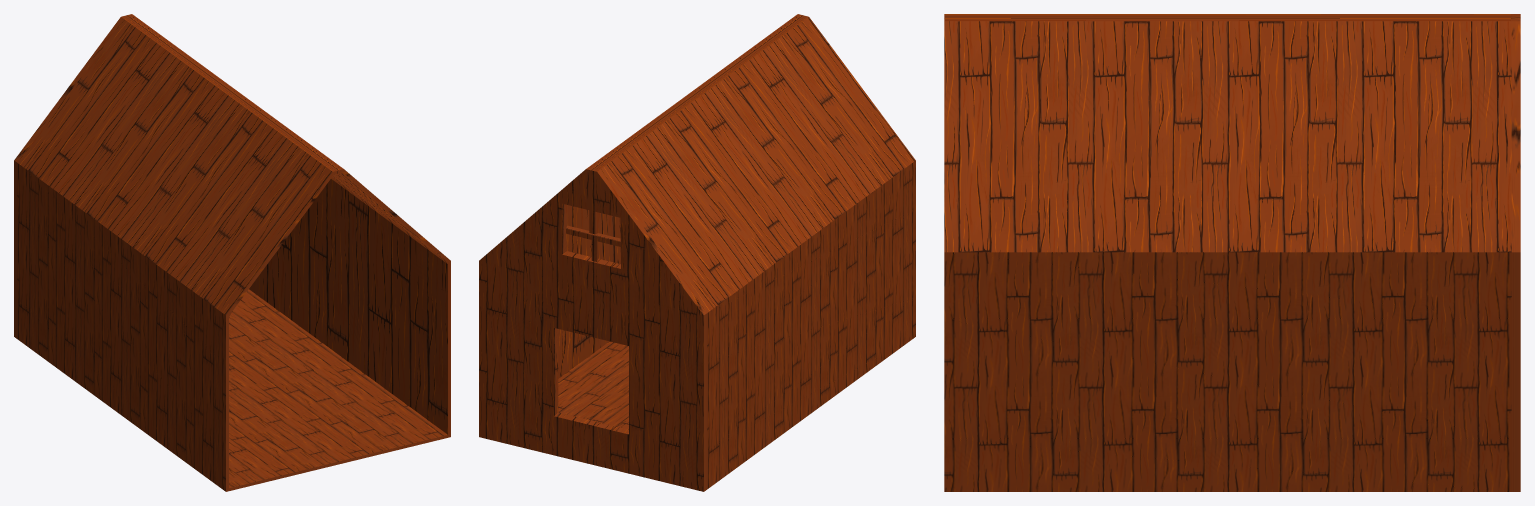
Rendered from cabinroom.gltf.
3 renders of one model, left to right at view 1: azimuth 30°, elevation 25°; view 2: azimuth 150°, elevation 25°; view 3: azimuth 270°, elevation 25°, orthographic. The views are drawn at different scales.
Parts seen in each view (by area): view 1: Cube; view 2: Cube; view 3: Cube.
Boxes of the visible parts, box(x1,y1,x2,y2) form: Cube: box(14, 14, 450, 491); Cube: box(479, 14, 915, 491); Cube: box(944, 14, 1520, 491).
Size of the model in its own units: 40 by 50 by 65.32.
1 material, 1 textured.
